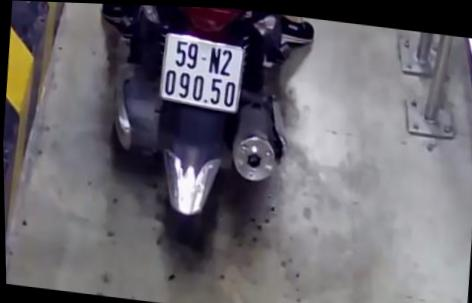LP: (155, 27, 248, 114)
